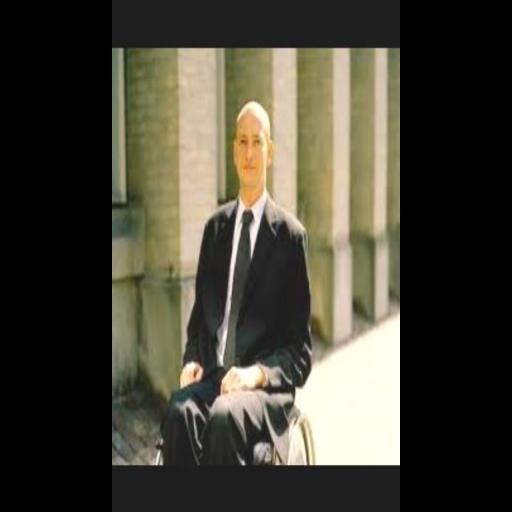cadeira_de_rodas: (163, 99, 332, 477)
